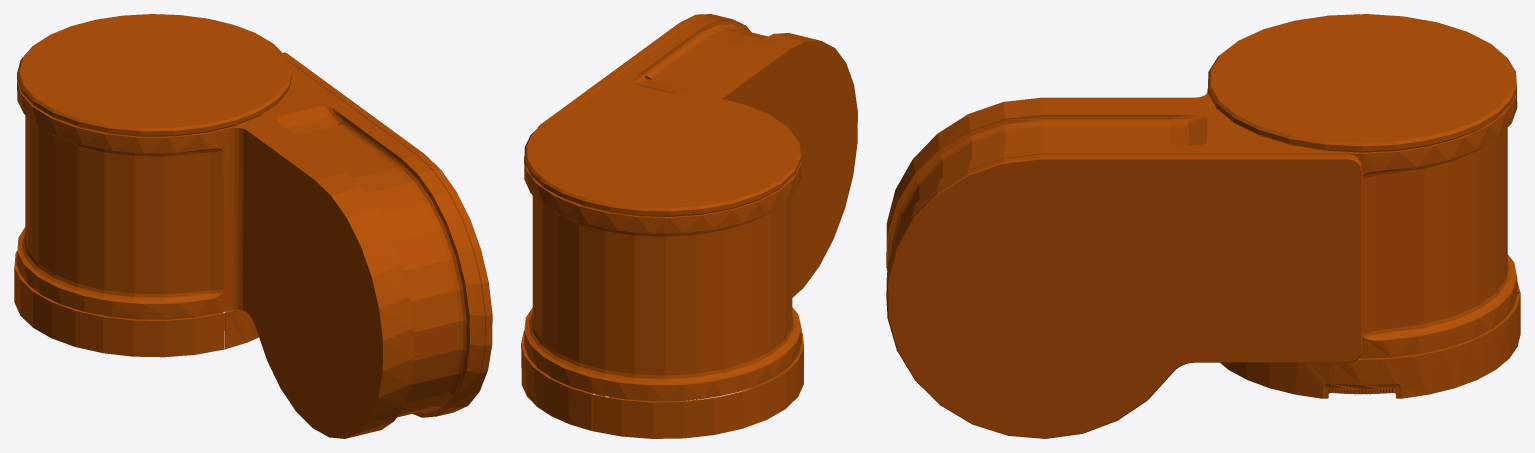
File: right_lower_hip.stl.obj
The picture shows the model from 3 angles, left to right: view 1: azimuth 30°, elevation 25°; view 2: azimuth 150°, elevation 25°; view 3: azimuth 270°, elevation 25°; orthographic projection. The views are drawn at different scales.
Visible parts, largest first — view 1: <STL_BINARY>; view 2: <STL_BINARY>; view 3: <STL_BINARY>.
Part boxes in pixels (x1,y1,x2,y2): <STL_BINARY>: (14,14,492,438); <STL_BINARY>: (521,14,857,438); <STL_BINARY>: (886,14,1520,438).
Size of the model in its own units: 0.1212 by 0.12 by 0.237.
